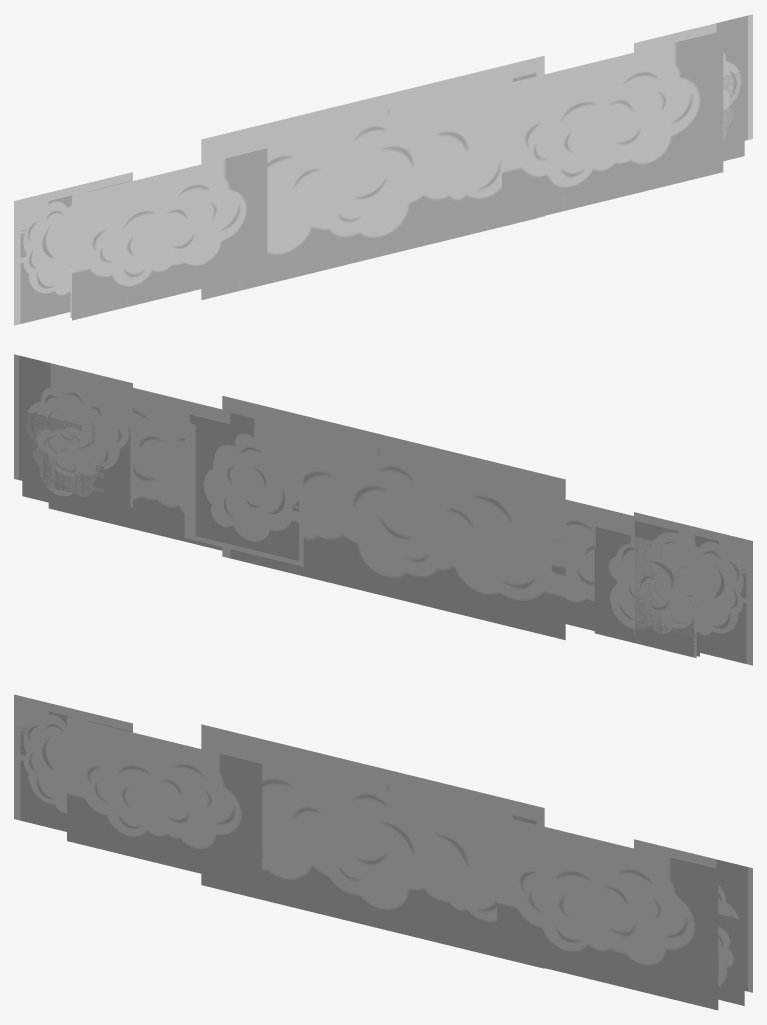
Rendered from puff_balk_288.glb.
3 views of the same model, one above another, from view 1: azimuth 30°, elevation 25°; view 2: azimuth 150°, elevation 25°; view 3: azimuth 330°, elevation 25° (orthographic).
Parts seen in each view (by area): view 1: puff6, puff8, puff8_1, puff2, puff4, puff3; view 2: puff6, puff5, puff4, puff2, puff1, puff8, puff3, puff8_1; view 3: puff6, puff8, puff8_1, puff2, puff4, puff3.
Boxes of the visible parts, <box> form: puff6: <box>201,56,544,300</box>; puff8: <box>502,31,723,225</box>; puff8_1: <box>72,148,267,320</box>; puff2: <box>14,172,132,325</box>; puff4: <box>634,14,752,145</box>; puff3: <box>723,71,744,161</box>; puff6: <box>222,396,565,640</box>; puff5: <box>184,413,303,566</box>; puff4: <box>14,354,132,507</box>; puff2: <box>634,512,752,665</box>; puff1: <box>594,527,696,657</box>; puff8: <box>48,387,222,550</box>; puff3: <box>22,410,103,515</box>; puff8_1: <box>565,499,699,656</box>; puff6: <box>201,724,544,968</box>; puff8: <box>497,815,718,1010</box>; puff8_1: <box>67,716,262,888</box>; puff2: <box>14,694,132,831</box>; puff4: <box>634,839,752,992</box>; puff3: <box>718,914,744,1005</box>.
Size of the model in its own units: 168 by 34.83 by 1.
Materials: 1 (1 with a texture image).
